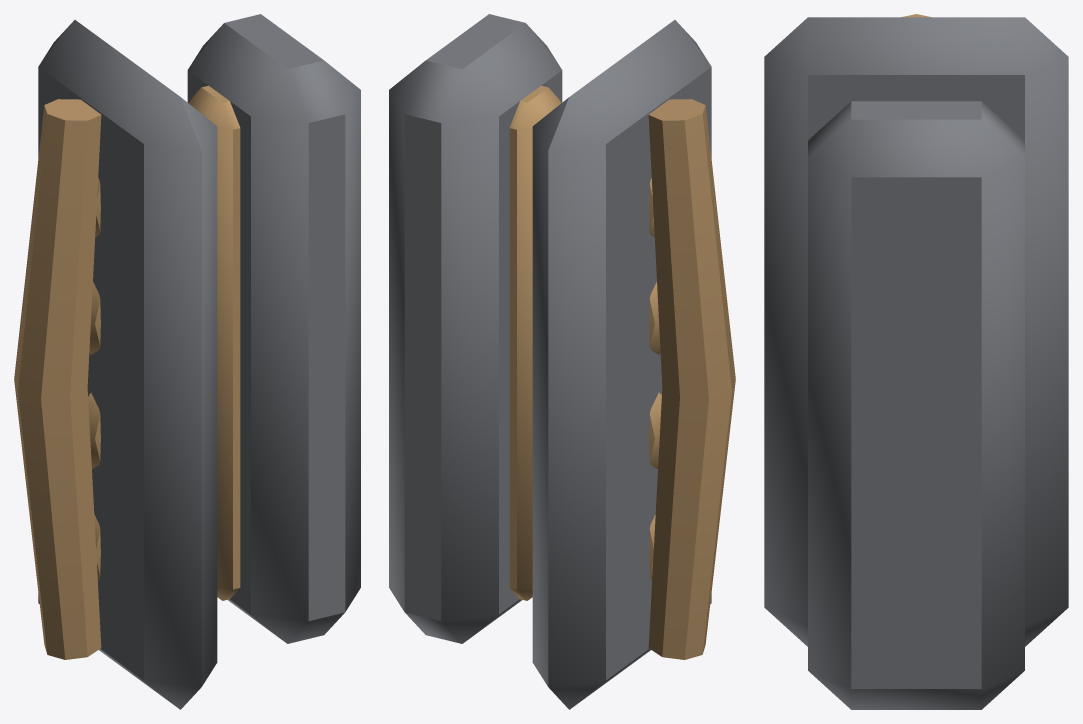
File: stonefist.glb
3 views of the same model, side by side, from view 1: azimuth 30°, elevation 25°; view 2: azimuth 150°, elevation 25°; view 3: azimuth 270°, elevation 25° (orthographic). The views are drawn at different scales.
Parts seen in each view (by area): view 1: stonefist; view 2: stonefist; view 3: stonefist.
Part boxes in pixels (x1=…): stonefist: x1=14, y1=14, x2=360, y2=709; stonefist: x1=389, y1=14, x2=735, y2=709; stonefist: x1=764, y1=14, x2=1068, y2=709.
Bounding box in the file's own units: 0.085 × 0.16 × 0.07.
